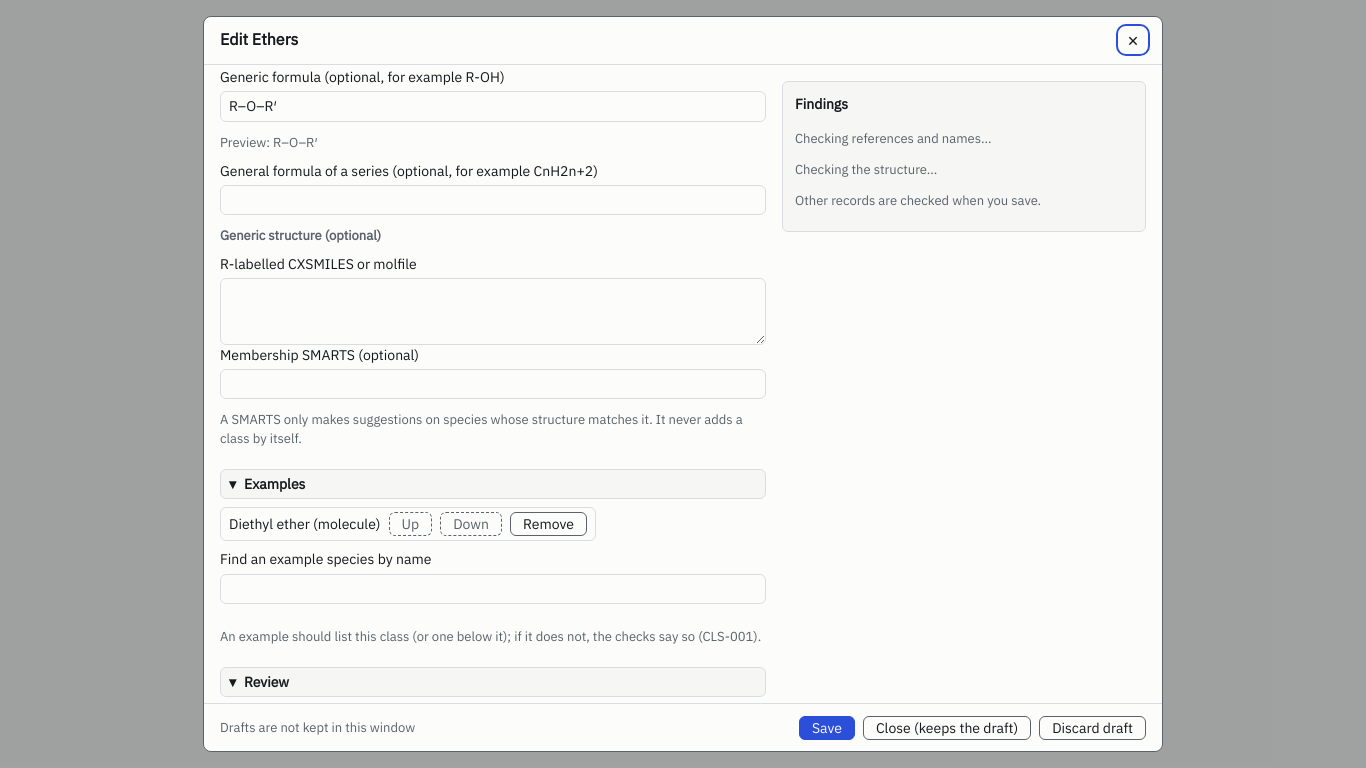
Test: Generic representation › checks a SMARTS in the chem worker 400 ms after the last change (injected timers); an invalid one shows the worker's words and is kept
(page scrolled)
Type "[CX4][OX2H" into the field labelled "Membership SMARTS (optional)" at (493, 384), box [220,369,766,399]
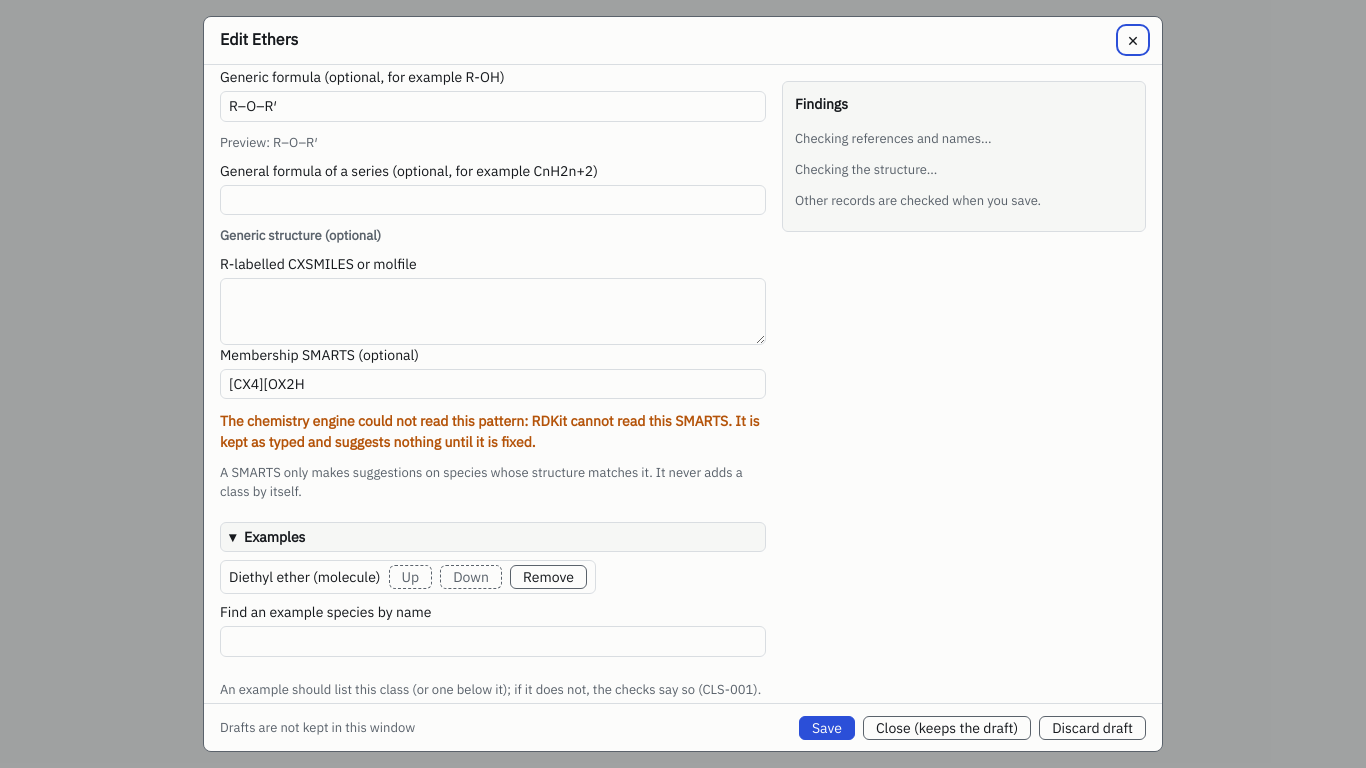
Replace the text in the field labelled "Membership SMARTS (optional)" with "[CX4][OX2H]" at (493, 384), box [220,369,766,399]
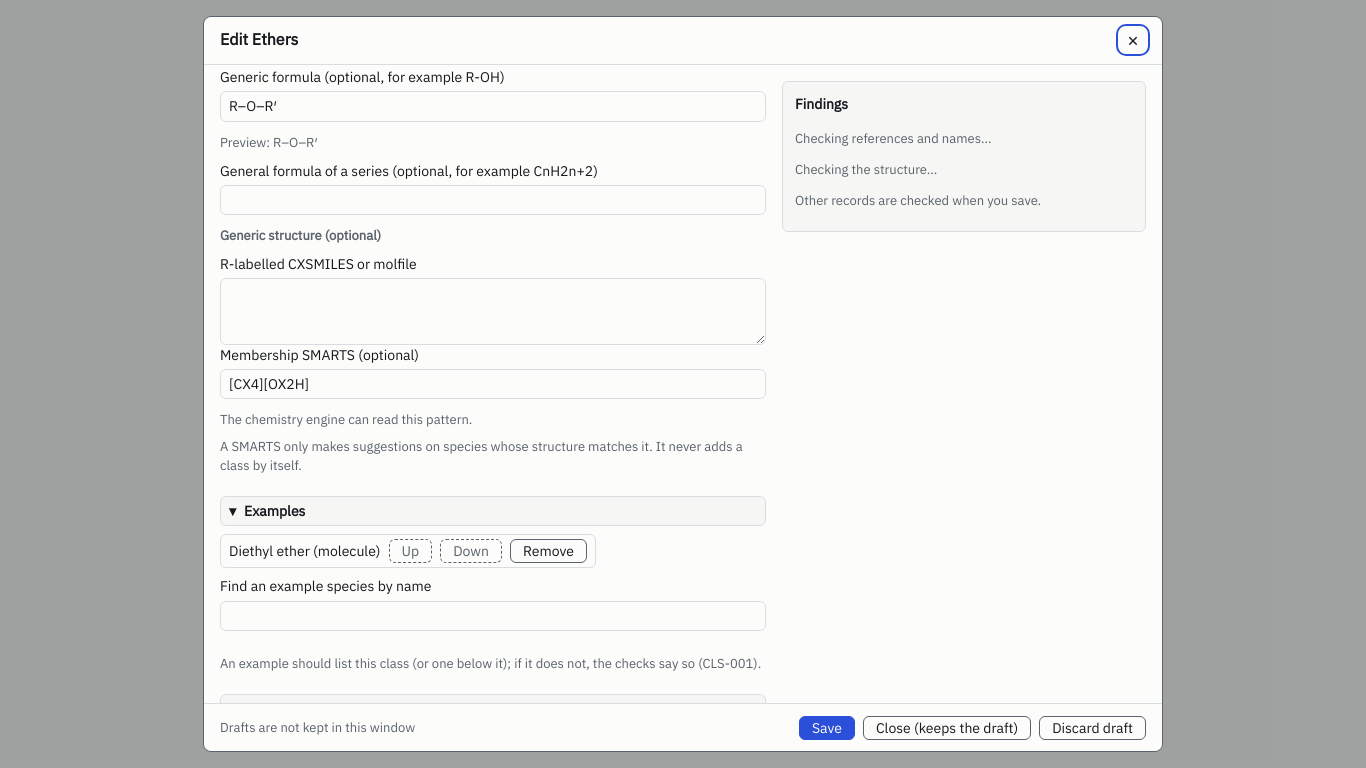
Now the text "The chemistry engine can read this pattern." is shown, box [220,411,472,428]
